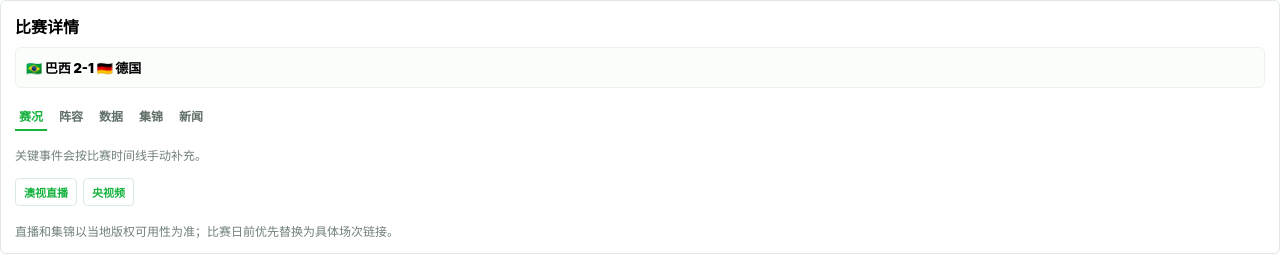
Test: MatchDetailPanel › shows the selected match and the required detail tabs
expect the heading "比赛详情" is shown: met, box [15,14,79,38]
expect the text "🇧🇷 巴西 2-1 🇩🇪 德国" is shown: met, box [15,47,1265,88]
Click the tab "集锦" at (151, 116), box [135,100,167,131]
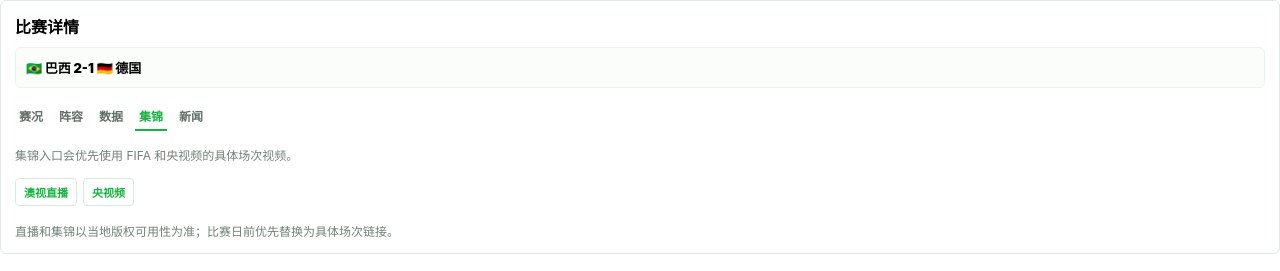
expect the text "集锦入口会优先使用 FIFA 和央视频的具体场次视频。" is shown: met, box [15,148,298,163]
